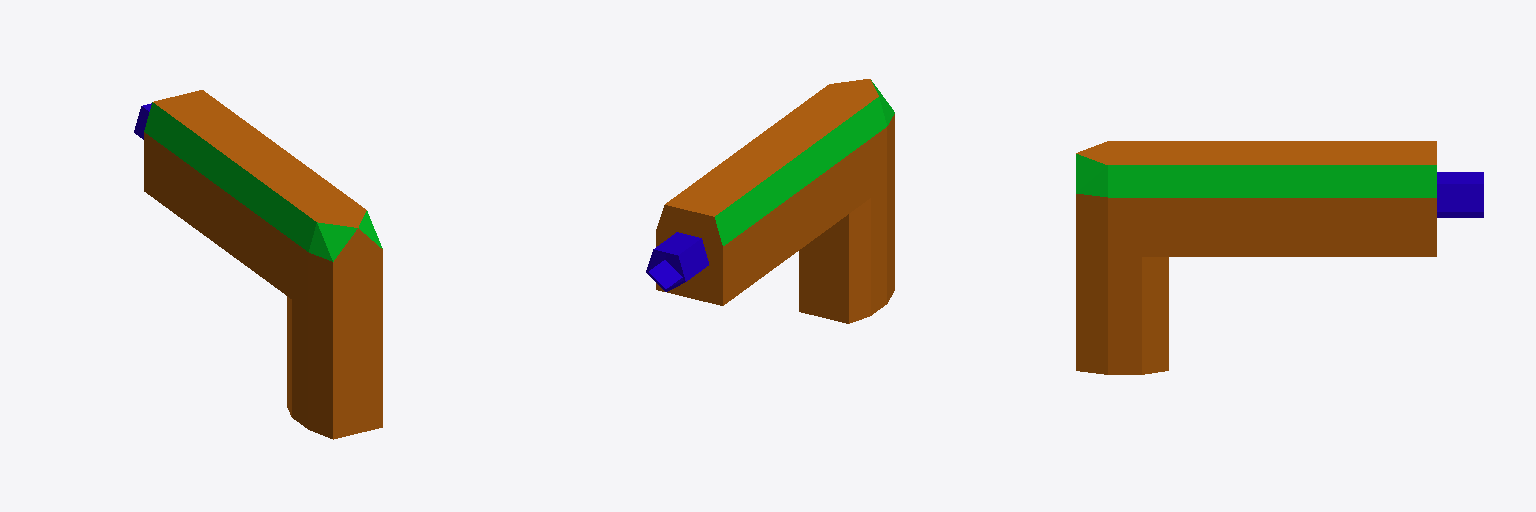
File: Ratchet.obj
3 views of the same model, side by side, from view 1: azimuth 30°, elevation 25°; view 2: azimuth 150°, elevation 25°; view 3: azimuth 270°, elevation 25° (orthographic).
Size of the model in its own units: 0.1292 by 0.379 by 0.6836.